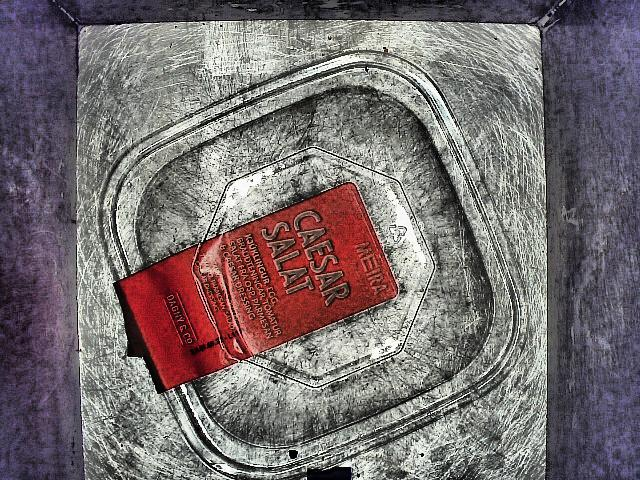Plastic: (97, 39, 534, 473)
